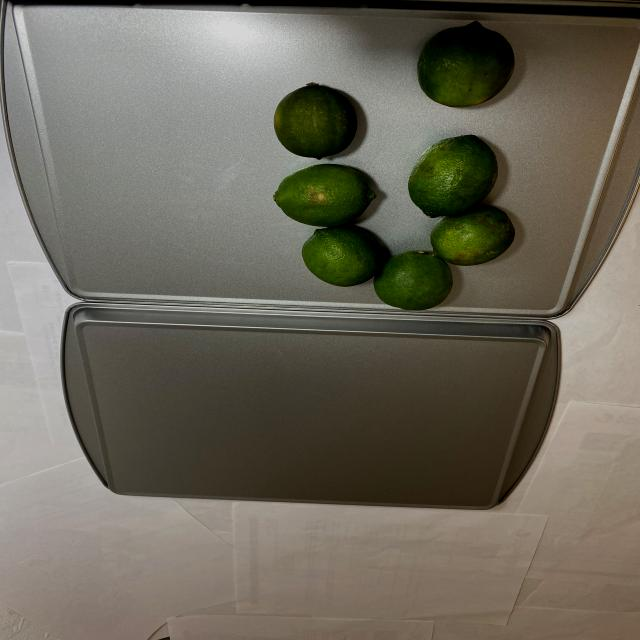lemon: (283, 17, 525, 306)
